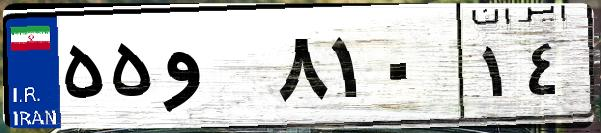0: (385, 28, 445, 110)
1: (330, 28, 385, 110), (475, 38, 525, 113)
4: (525, 38, 570, 115)
5: (57, 26, 110, 100), (110, 28, 158, 98)
8: (270, 28, 330, 110)
و: (158, 20, 270, 120)
